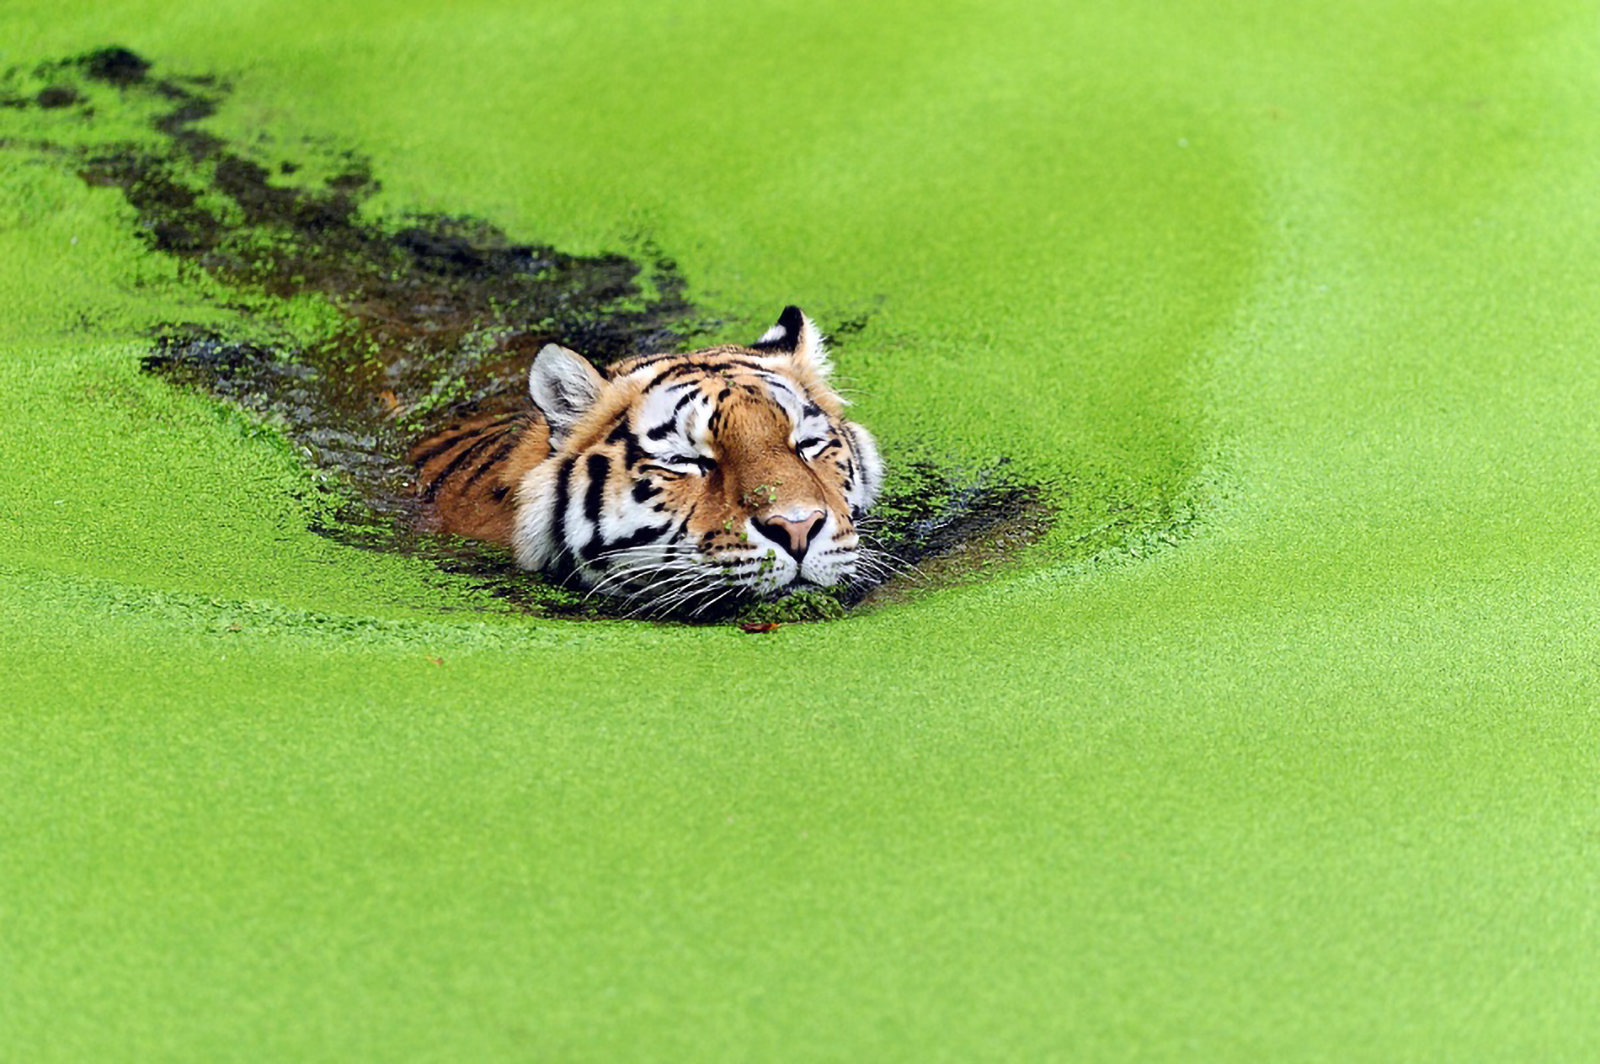tiger: (444, 294, 908, 636)
